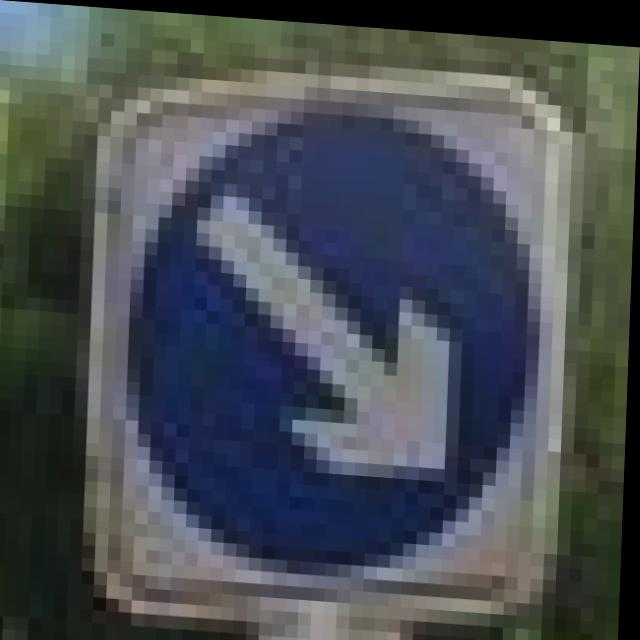COMPULSARY_KEEP_RIGHT: (125, 90, 539, 583)
